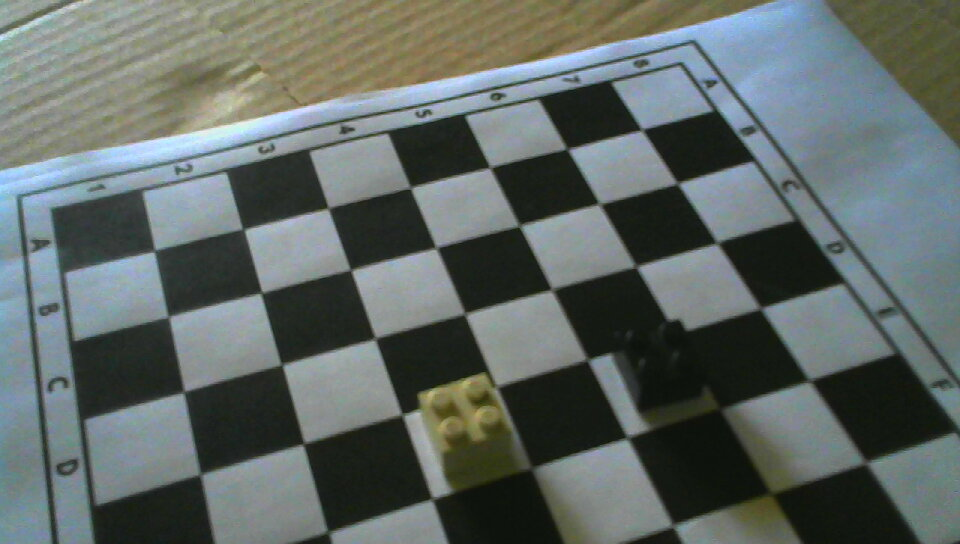bp: (614, 319, 704, 411)
wp: (418, 373, 515, 477)
